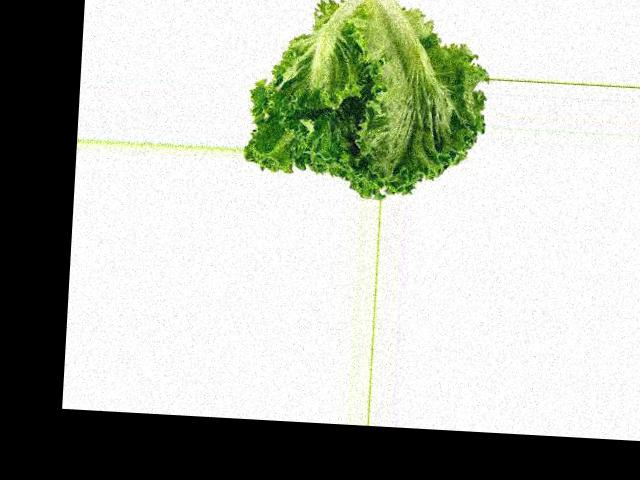lettuce: (214, 83, 389, 191)
